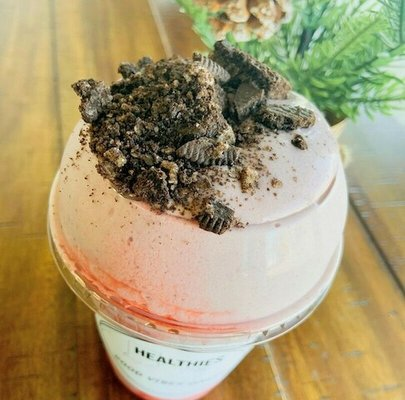sushi: (47, 51, 392, 392)
